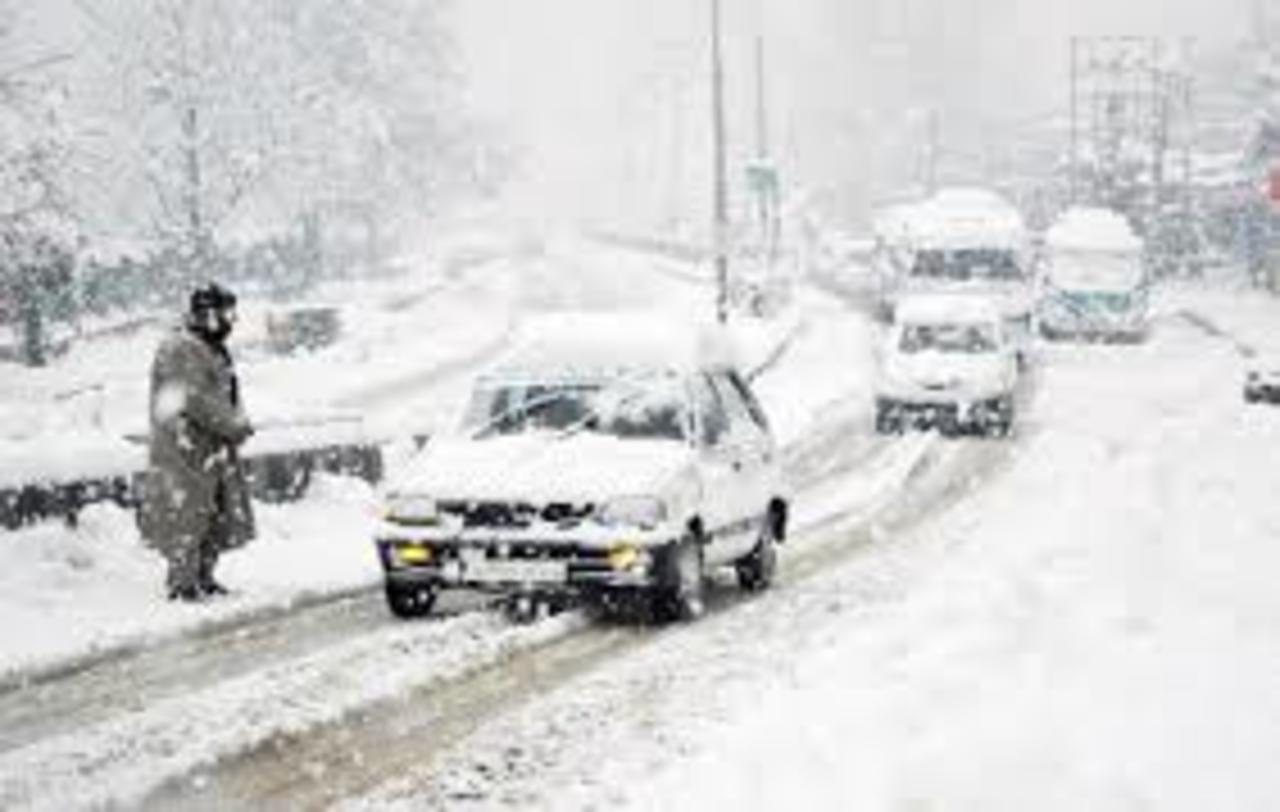car: (372, 332, 805, 623), (877, 301, 1021, 439), (1043, 220, 1149, 337), (902, 232, 1029, 328)
person: (143, 284, 261, 603)
